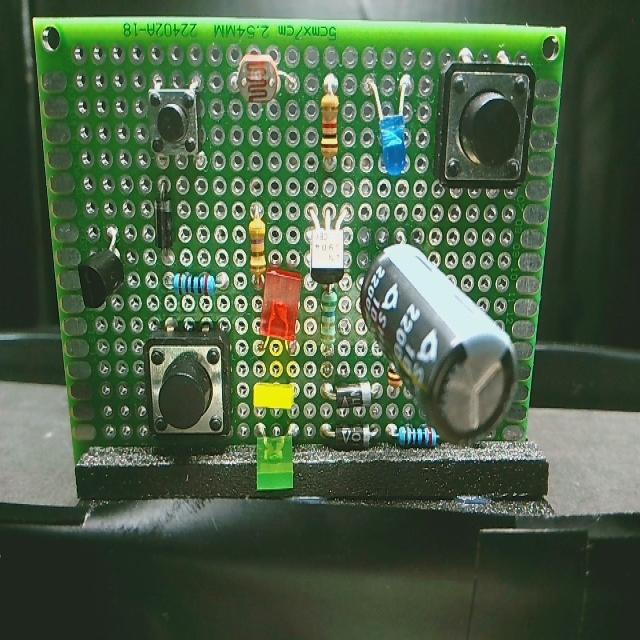Electrolytic capacitor: (361, 227, 514, 455)
cds: (228, 46, 284, 110)
diode: (151, 194, 178, 262), (322, 419, 371, 454), (322, 378, 369, 406)
led: (368, 78, 415, 179), (257, 268, 308, 342), (253, 432, 302, 488), (253, 370, 293, 414)
resistor: (312, 81, 352, 164), (162, 263, 224, 304), (392, 417, 444, 455), (319, 286, 340, 353), (244, 206, 264, 275), (385, 362, 401, 399)
switch: (441, 51, 536, 190), (145, 330, 234, 448), (147, 87, 203, 159)
transistor: (307, 197, 353, 285), (75, 238, 126, 306)
